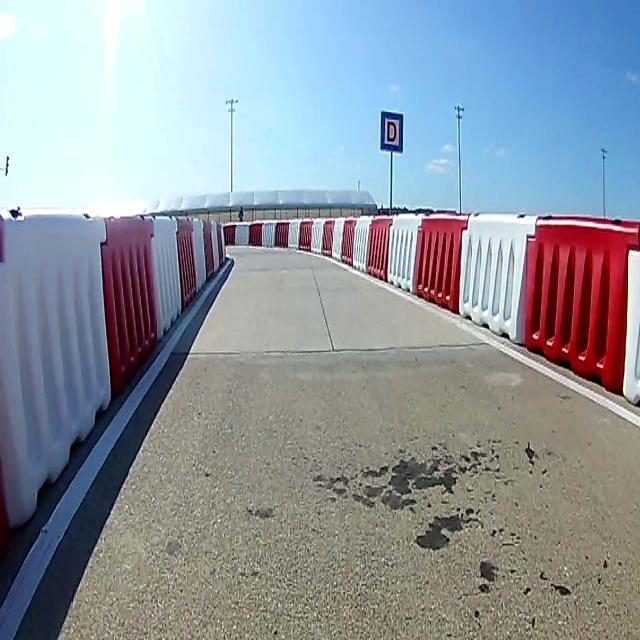durak: (379, 110, 403, 155)
